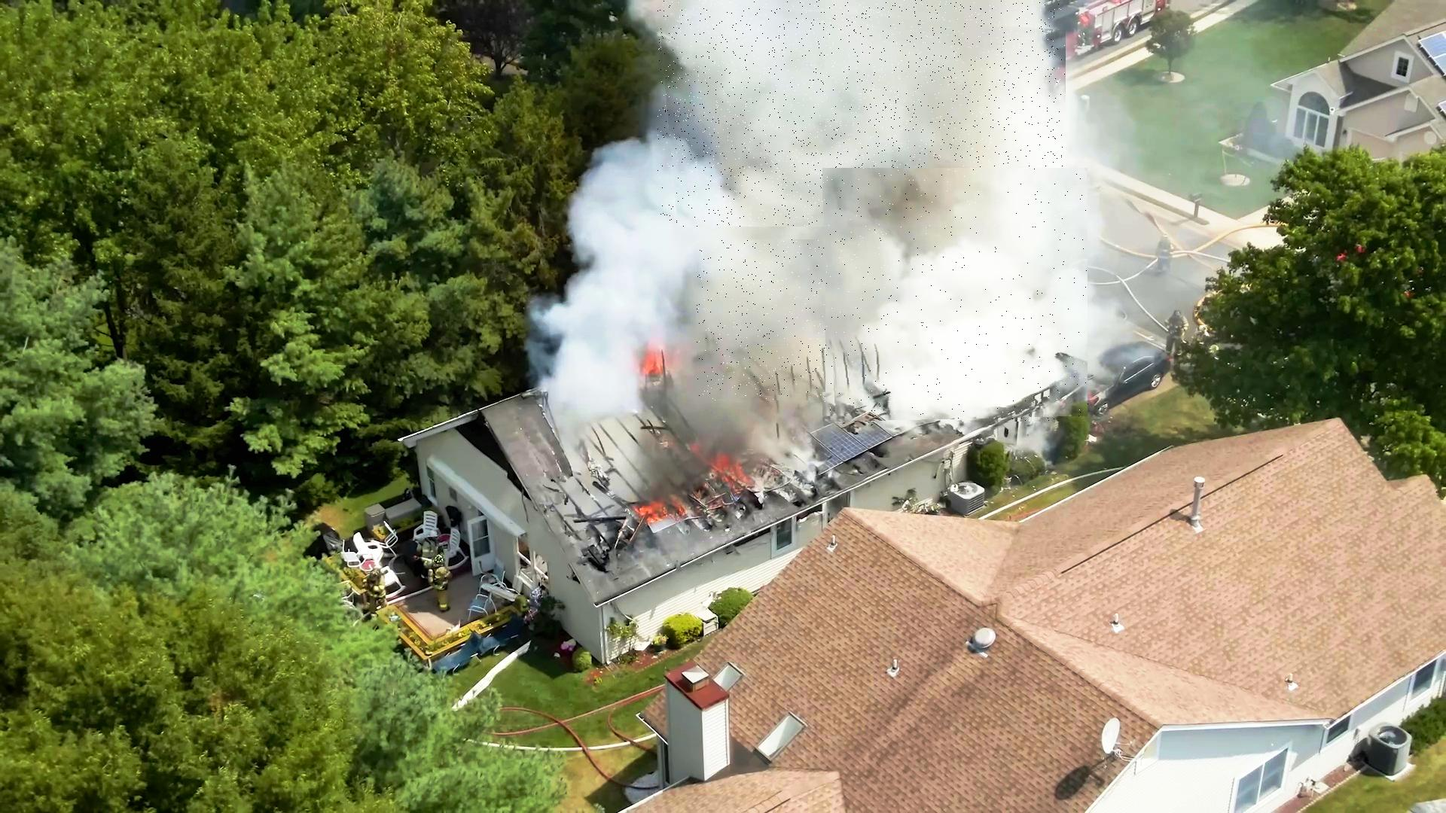smoke: (657, 0, 1066, 227), (823, 168, 1090, 422), (697, 240, 828, 401)
